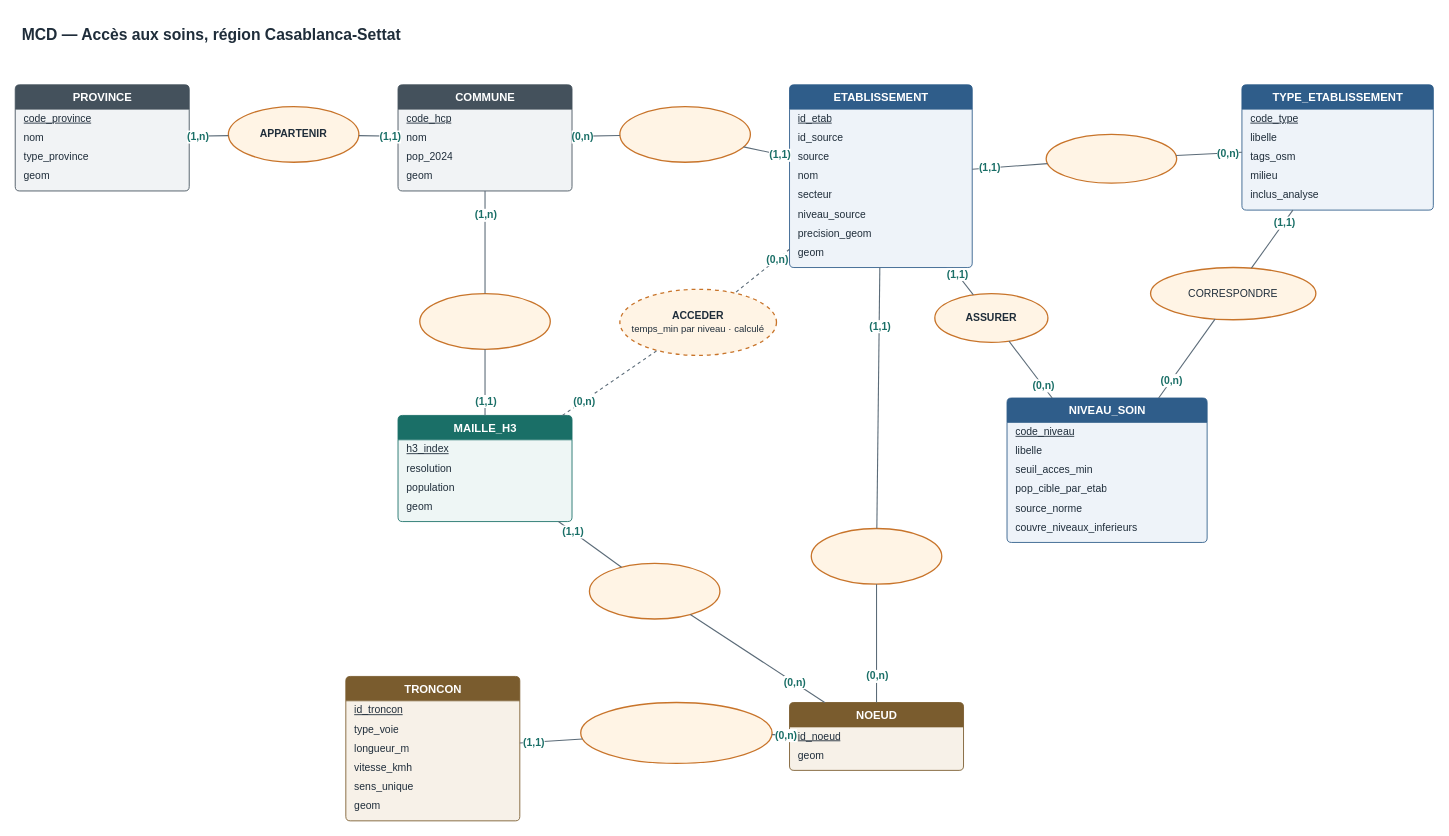
Image size: 1449x836. Some labels were removed from this diagram. Each missing label, with the centre of its shape:
"ACCROCHER" belongs at point 876,555.
"CLASSER" belongs at point 1111,158.
"DÉBUTER / ABOUTIR" belongs at point 676,732.
"LOCALISER" belongs at point 685,134.
"RACCORDER" belongs at point 654,590.
"RATTACHER" belongs at point 485,321.
